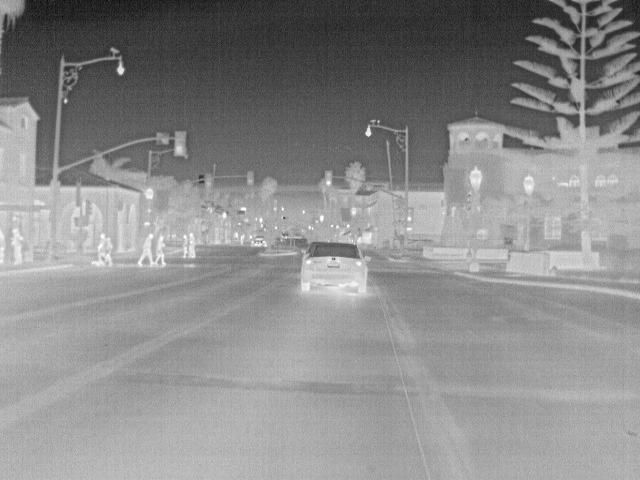car: (294, 240, 369, 297)
dog: (89, 256, 108, 267)
person: (134, 233, 157, 267), (95, 233, 116, 267), (9, 224, 26, 264), (179, 234, 191, 262)
